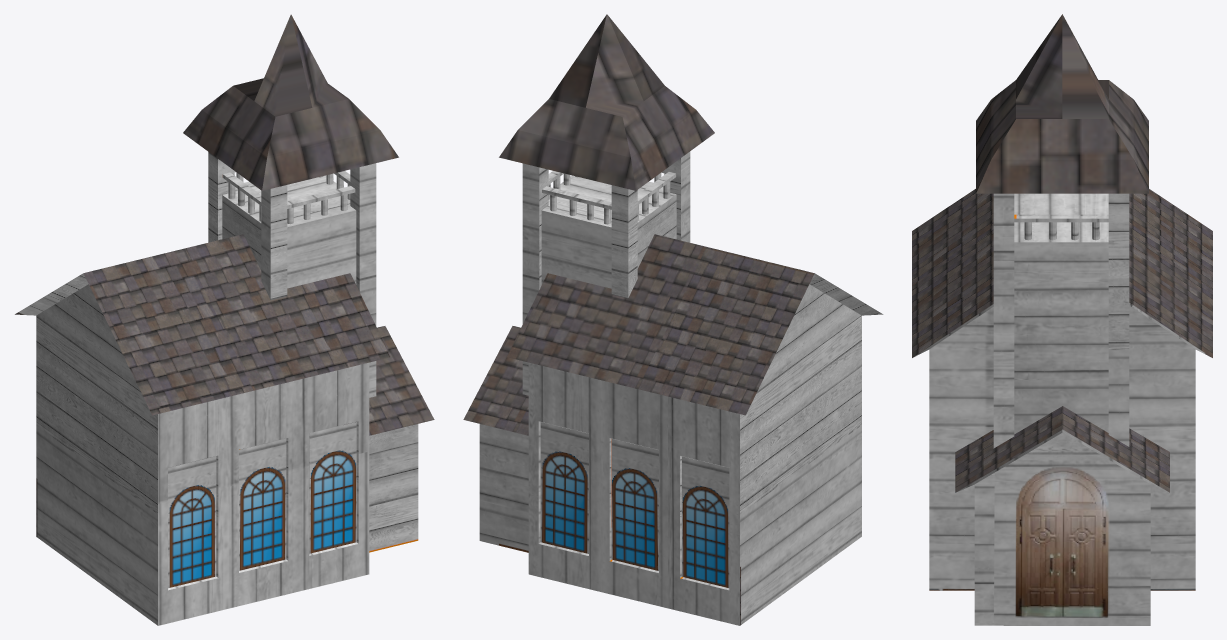
File: Church.fbx
The picture shows the model from 3 angles, left to right: view 1: azimuth 30°, elevation 25°; view 2: azimuth 150°, elevation 25°; view 3: azimuth 270°, elevation 25°; orthographic projection. The views are drawn at different scales.
Visible parts, largest first — view 1: church; view 2: church; view 3: church.
Part boxes in pixels (left/top/right/bottom): church: left=15, top=14, right=434, bottom=625; church: left=463, top=14, right=883, bottom=625; church: left=912, top=14, right=1212, bottom=625.
Size of the model in its own units: 1154 by 1899 by 913.
Materials: 1 (1 with a texture image).
